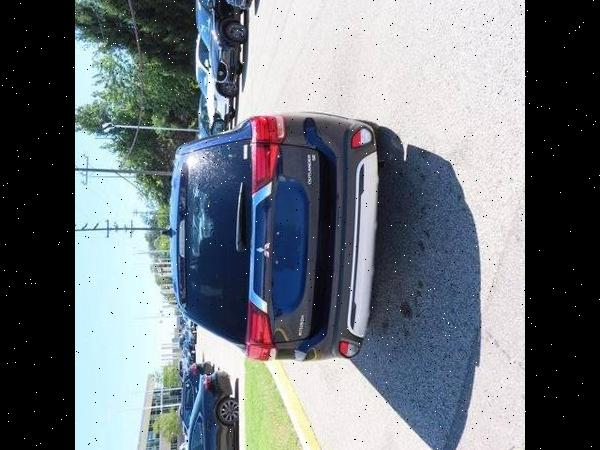Left_Taillight: (245, 299, 277, 361)
Rear_Bumper: (274, 113, 381, 362)
Rear_Windshield: (177, 122, 250, 347)
Right_Taillight: (249, 113, 287, 194)
Tailgate: (249, 144, 328, 342)
